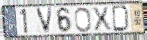1: (19, 8, 29, 35)
6: (55, 7, 73, 34)
D: (111, 5, 131, 33)
O: (74, 6, 93, 34)
V: (34, 7, 54, 35)
X: (90, 6, 113, 33)
